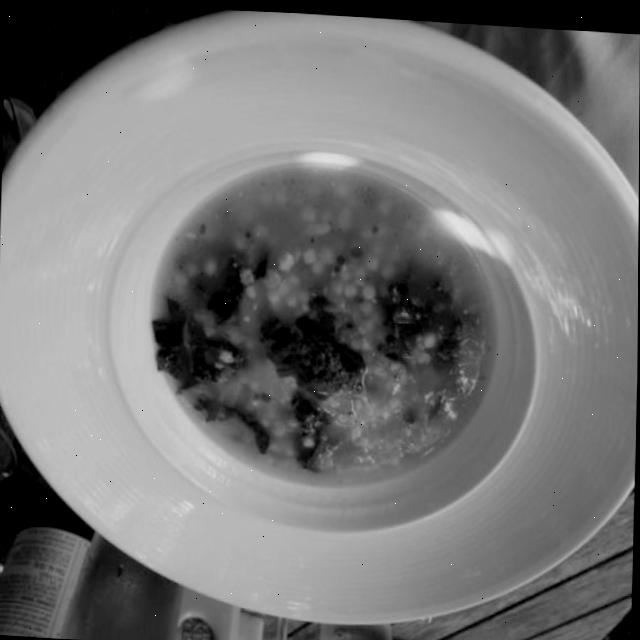汤锅炖物: (85, 118, 561, 566)
